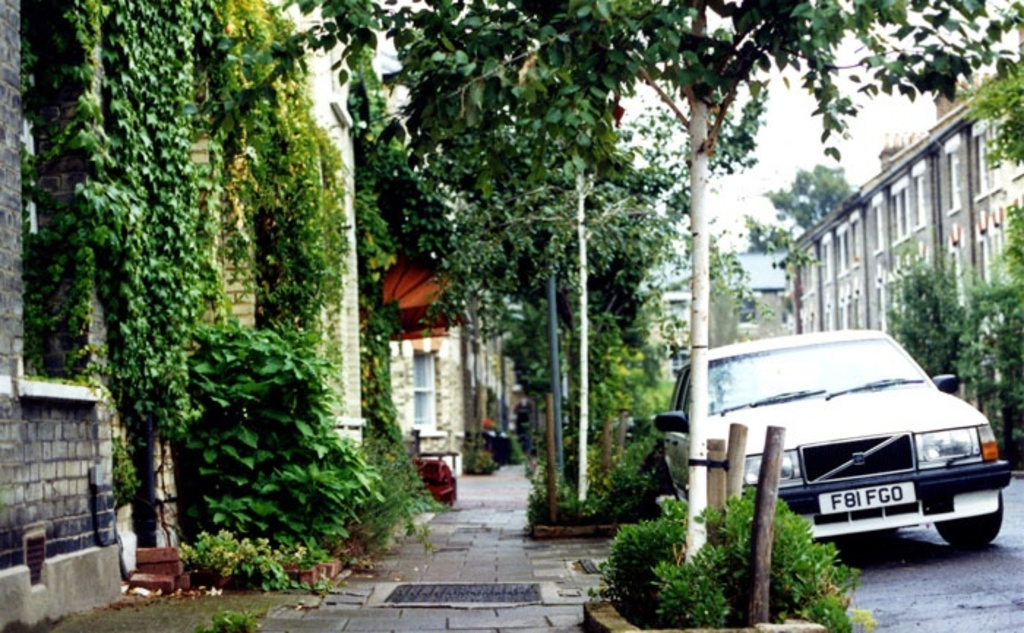Car: (656, 327, 1012, 546)
